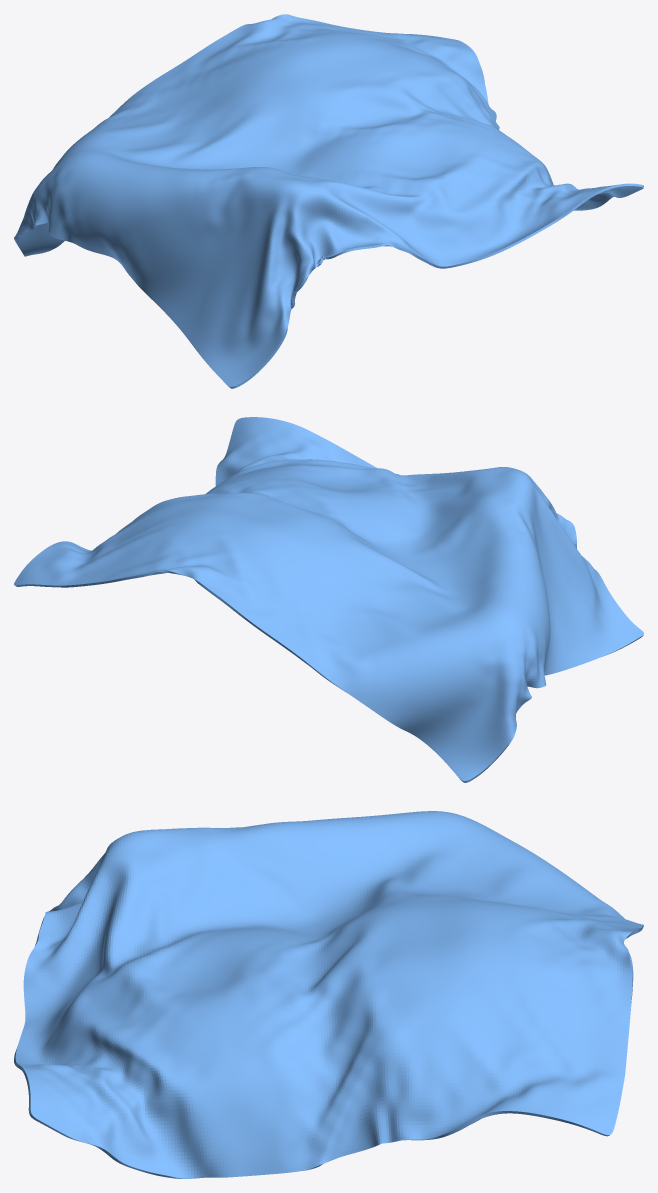
Rendered from tecido1.fbx.
3 views of the same model, one above another, from view 1: azimuth 30°, elevation 25°; view 2: azimuth 150°, elevation 25°; view 3: azimuth 270°, elevation 25° (orthographic). The views are drawn at different scales.
Parts seen in each view (by area): view 1: Plane; view 2: Plane; view 3: Plane.
Boxes of the visible parts, bbox=[...] form: Plane: bbox=[14, 14, 643, 388]; Plane: bbox=[14, 417, 643, 782]; Plane: bbox=[14, 811, 643, 1178].
Bounding box in the file's own units: 231 × 80.61 × 199.
